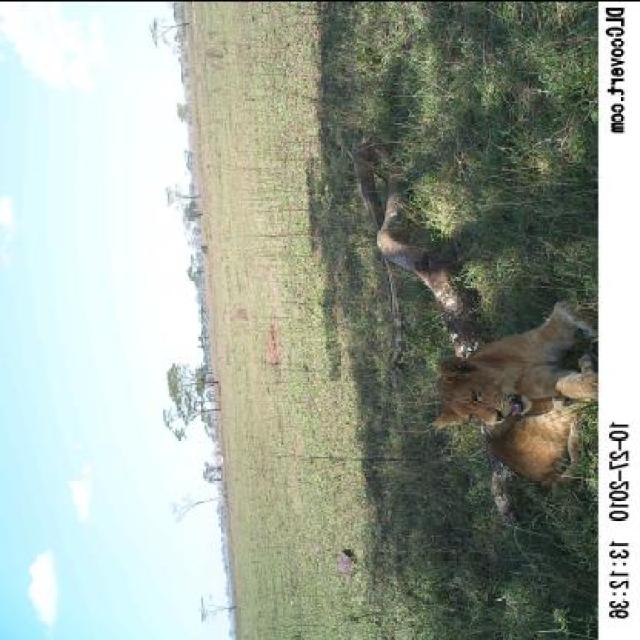Lion: (415, 274, 603, 495)
